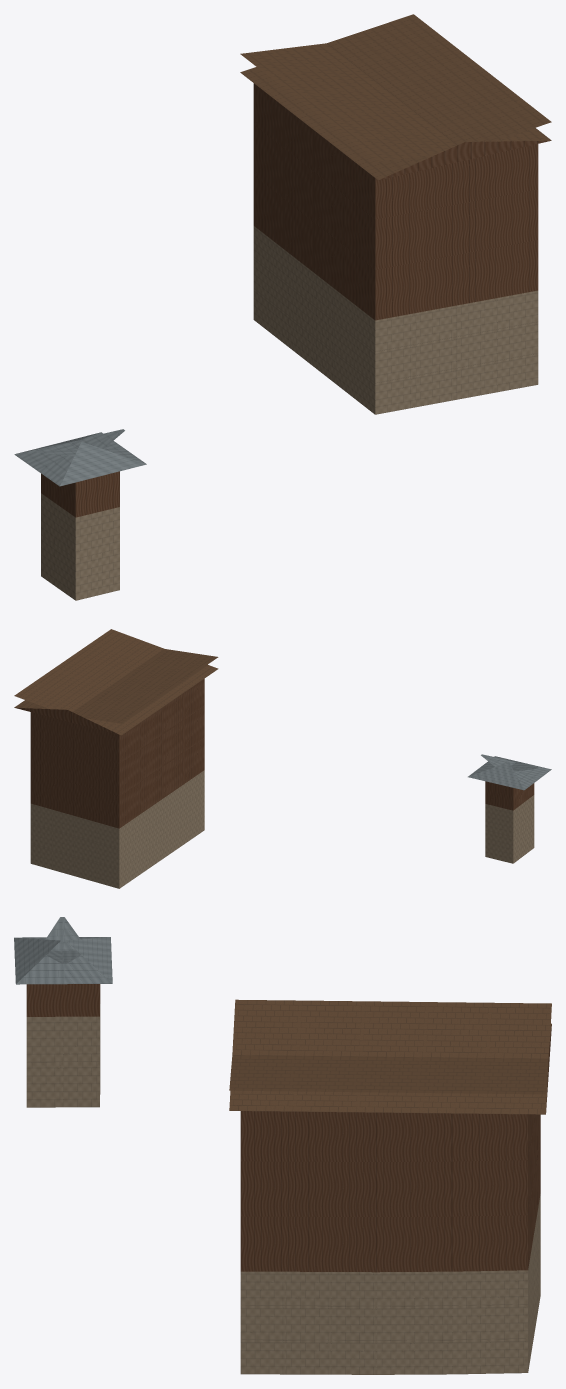
The model's file is bld_c8_25_413.gltf.
3 renders of one model, top to bottom at view 1: azimuth 30°, elevation 25°; view 2: azimuth 150°, elevation 25°; view 3: azimuth 270°, elevation 25°, orthographic. The views are drawn at different scales.
Visible parts, largest first — view 1: bld_c8_25_413; view 2: bld_c8_25_413; view 3: bld_c8_25_413.
Part boxes in pixels (<box>): bld_c8_25_413: <box>14,14,551,600</box>; bld_c8_25_413: <box>14,629,551,888</box>; bld_c8_25_413: <box>14,917,551,1374</box>.
Size of the model in its own units: 33.93 by 14.7 by 24.2.
Materials: 5 (5 with a texture image).
